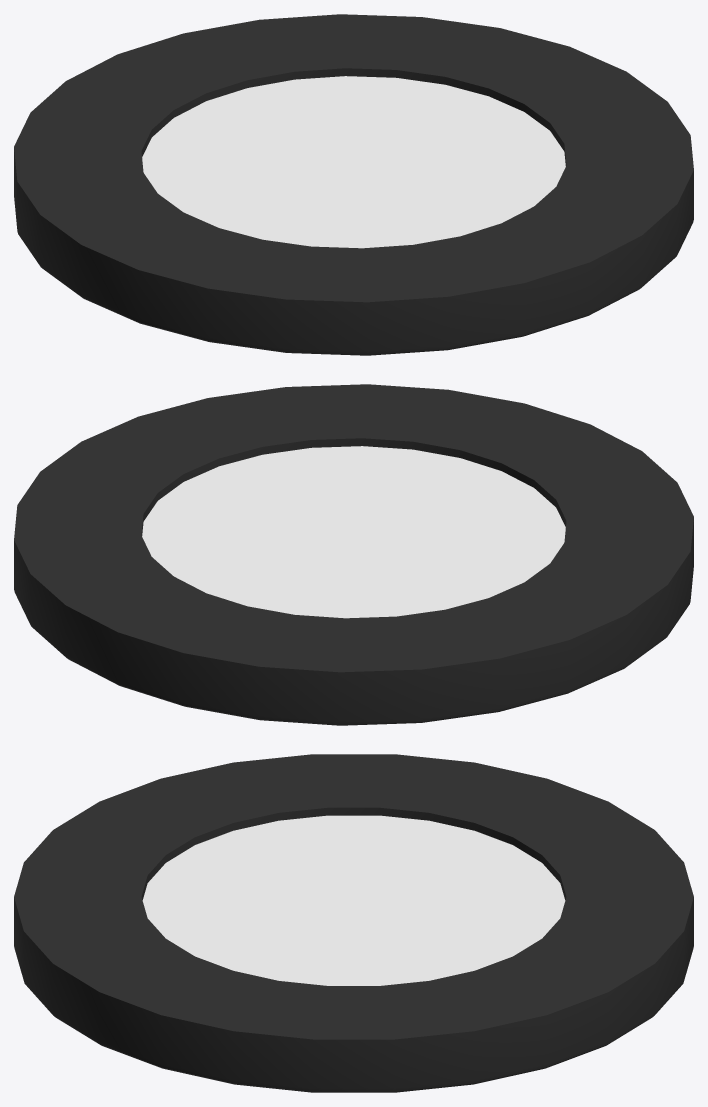
Rendered from celing_light.FBX.
3 renders of one model, top to bottom at view 1: azimuth 30°, elevation 25°; view 2: azimuth 150°, elevation 25°; view 3: azimuth 270°, elevation 25°, orthographic.
Visible parts, largest first — view 1: Tube011, Tube010; view 2: Tube011, Tube010; view 3: Tube011, Tube010.
Part boxes in pixels (x1,y1,x2,y2): Tube011: (14,14,693,355); Tube010: (142,76,565,248); Tube011: (14,384,693,725); Tube010: (142,446,565,618); Tube011: (14,754,693,1092); Tube010: (142,815,565,985).
Size of the model in its own units: 0.2294 by 0.231 by 0.0288.
2 materials, 1 textured.
